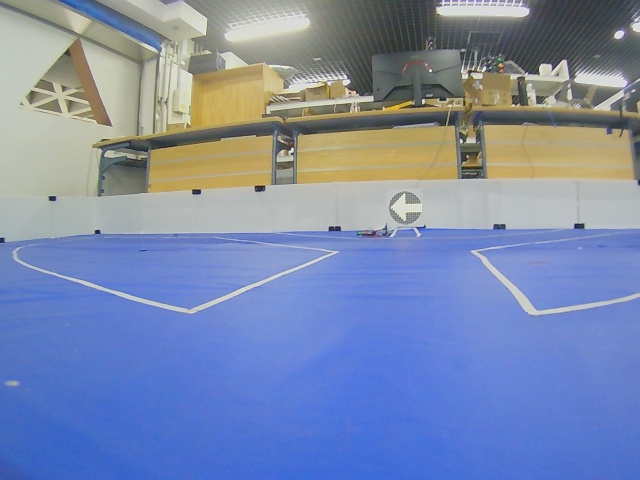left_yellow: (389, 192, 423, 225)
